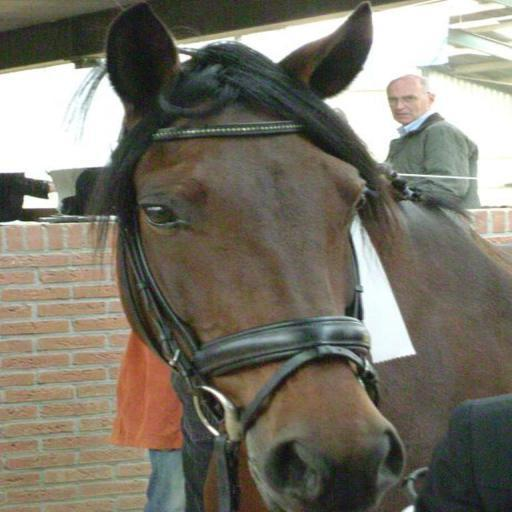horse: (66, 0, 512, 512)
